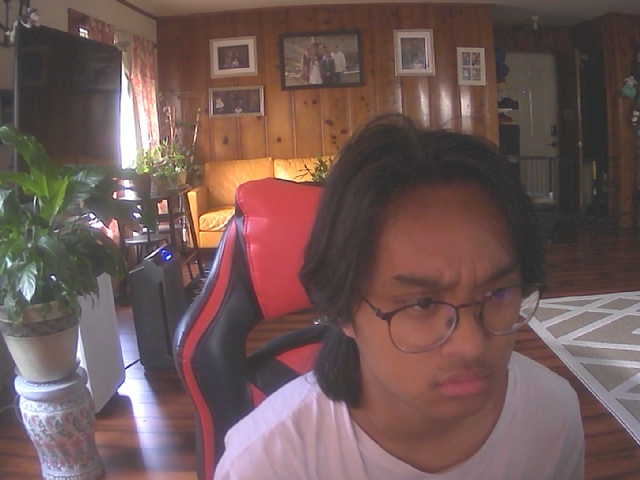anger: (337, 150, 548, 428)
